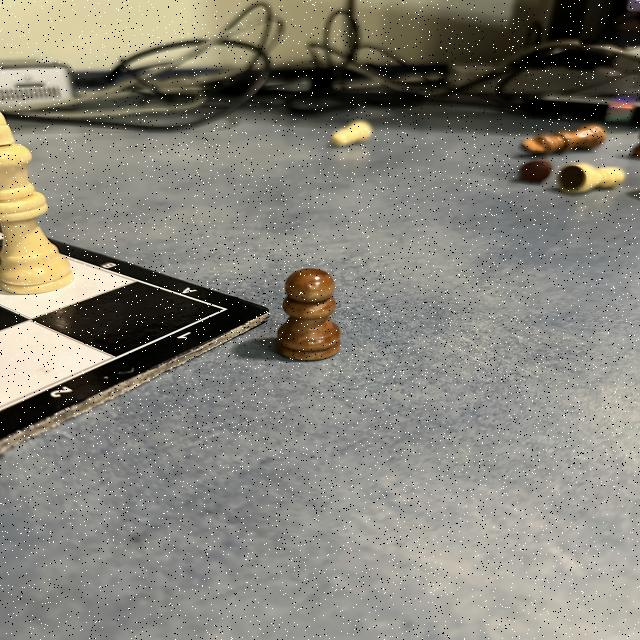Black-Pawn: (275, 269, 344, 361)
